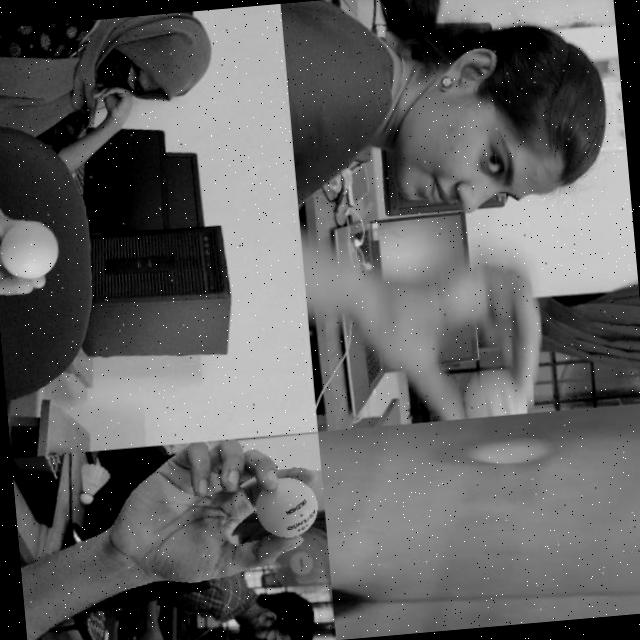ping-pong-ball: (251, 472, 319, 535), (0, 214, 60, 279), (464, 367, 530, 416), (468, 433, 553, 466)
